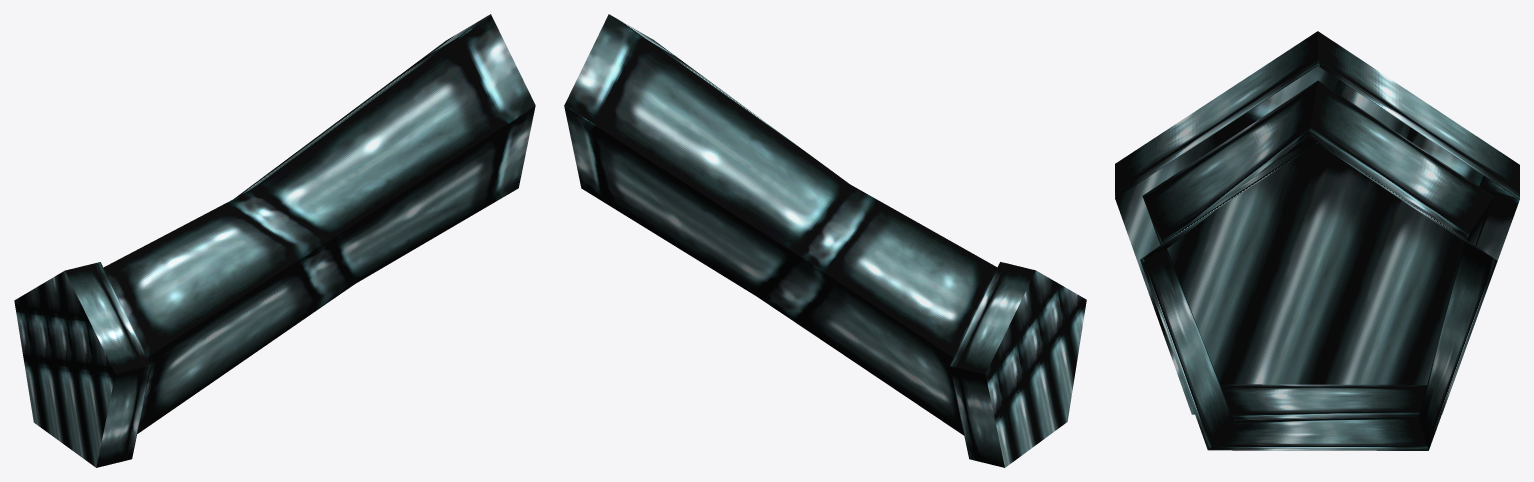
The model's file is Rohr_StückSchräg_1442.glb.
3 views of the same model, side by side, from view 1: azimuth 30°, elevation 25°; view 2: azimuth 150°, elevation 25°; view 3: azimuth 270°, elevation 25° (orthographic). The views are drawn at different scales.
Parts seen in each view (by area): view 1: pCylinderShape75, pCylinderShape76; view 2: pCylinderShape75, pCylinderShape76; view 3: pCylinderShape76, pCylinderShape75.
Boxes of the visible parts, x1,y1,x2,y2 form: pCylinderShape75: [103, 14, 535, 433]; pCylinderShape76: [14, 262, 151, 467]; pCylinderShape75: [564, 14, 997, 435]; pCylinderShape76: [949, 262, 1086, 467]; pCylinderShape76: [1115, 31, 1519, 414]; pCylinderShape75: [1140, 80, 1497, 450].
Size of the model in its own units: 1.04 by 0.7654 by 0.4294.
Materials: 2 (2 with a texture image).
